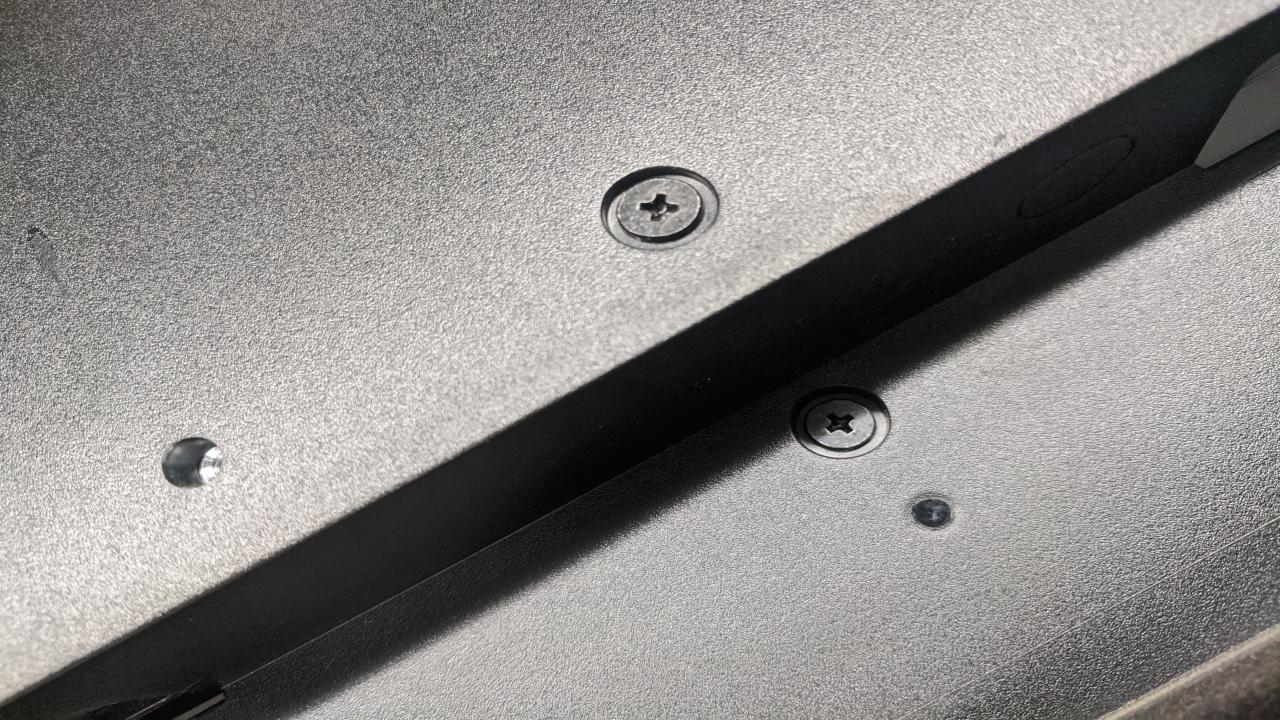CRS: (616, 177, 706, 243), (805, 397, 876, 454)
